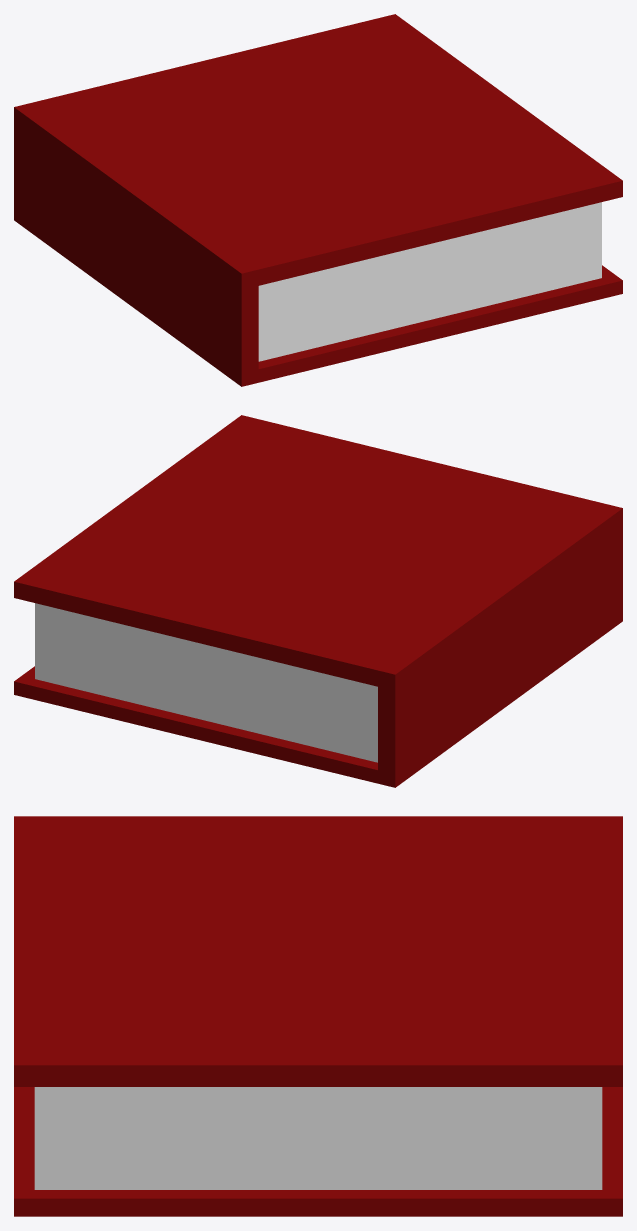
The picture shows the model from 3 angles, top to bottom: view 1: azimuth 30°, elevation 25°; view 2: azimuth 150°, elevation 25°; view 3: azimuth 270°, elevation 25°; orthographic projection. The views are drawn at different scales.
Parts seen in each view (by area): view 1: book; view 2: book; view 3: book.
Part boxes in pixels (x1,y1,x2,y2): book: (14,14,622,386); book: (14,415,622,787); book: (14,816,622,1216).
Bounding box in the file's own units: 208 × 59 × 215.
